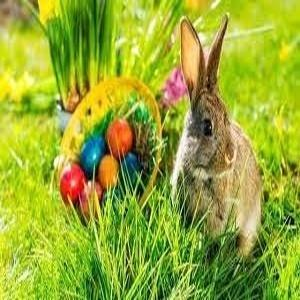rabbit: (181, 15, 265, 261)
